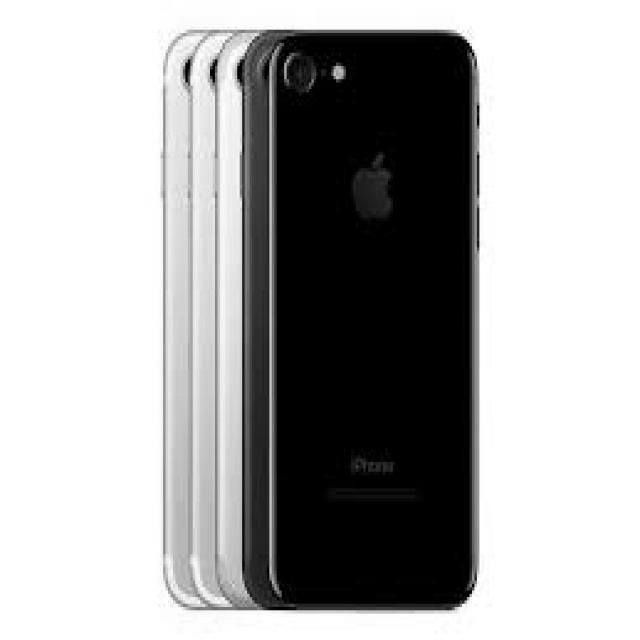fake: (271, 28, 482, 608)
